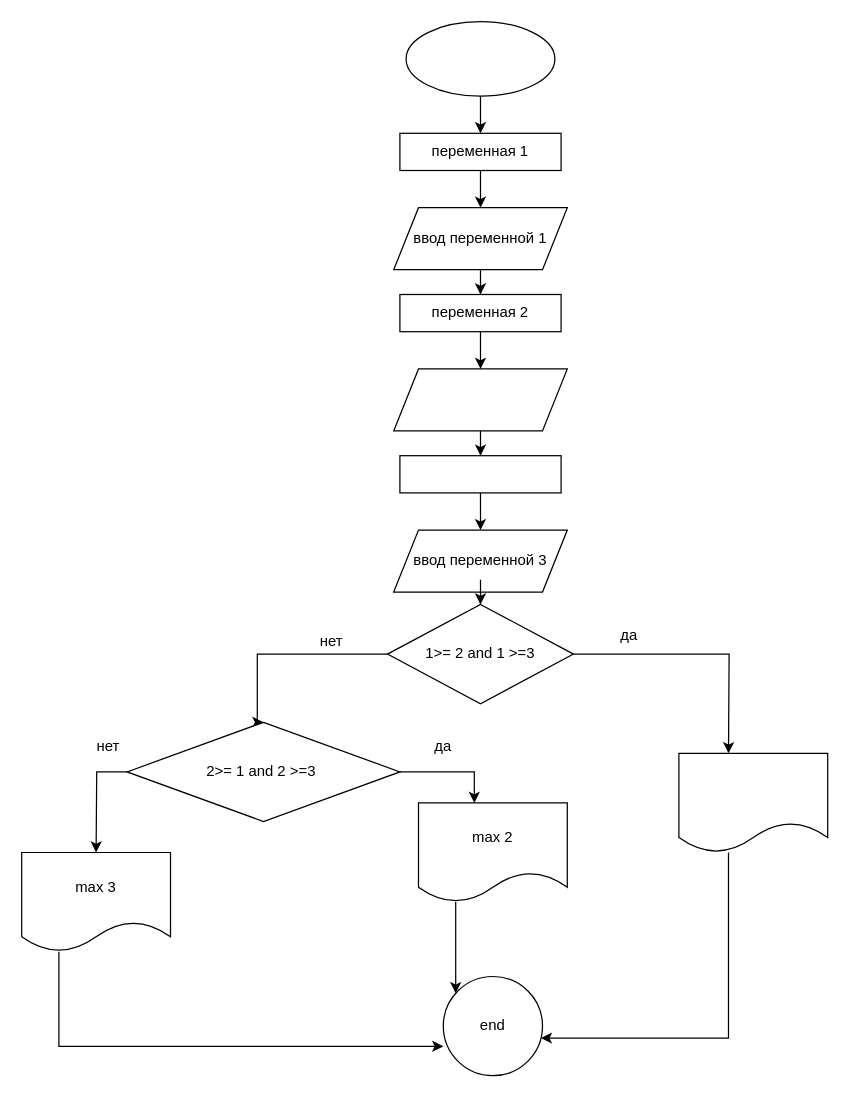
Some shapes in this 849 by 1097 pixel diagram are drawn without their labels. The shapes that lost their labels are listed below. From the top down, each one's centre as x and y in pixels, then its label:
At pixel 480 58: "начало".
At pixel 479 399: "ввод переменной 2".
At pixel 480 473: "переменная 3".
At pixel 753 802: "max 1".
